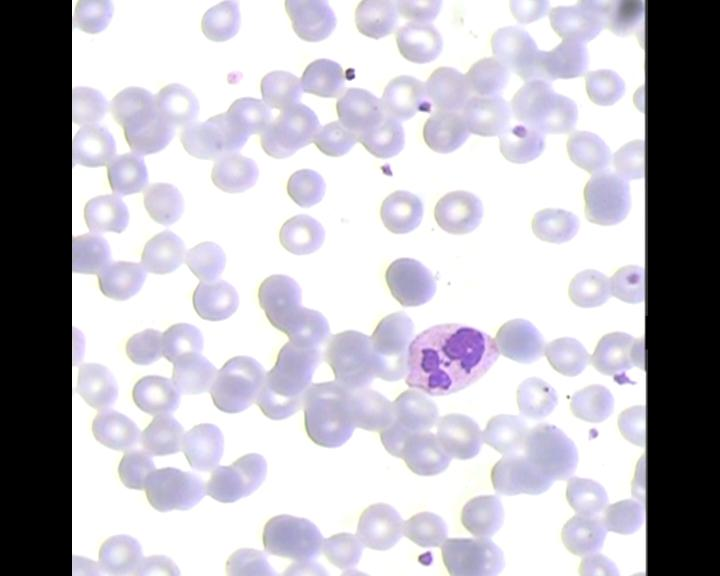neut: (401, 319, 507, 400)
